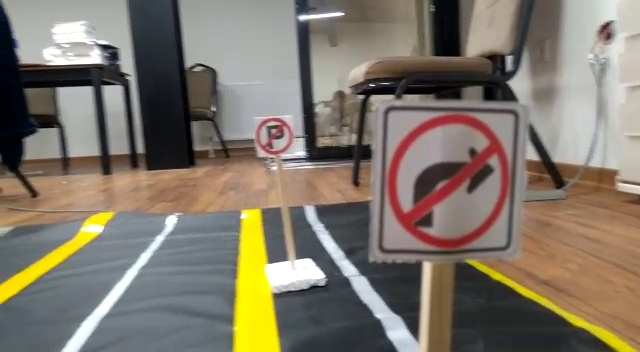park_yapilmaz: (253, 114, 294, 156)
saga_donulmez: (383, 113, 515, 249)
